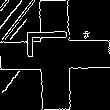L_E: (30, 39, 80, 71)
